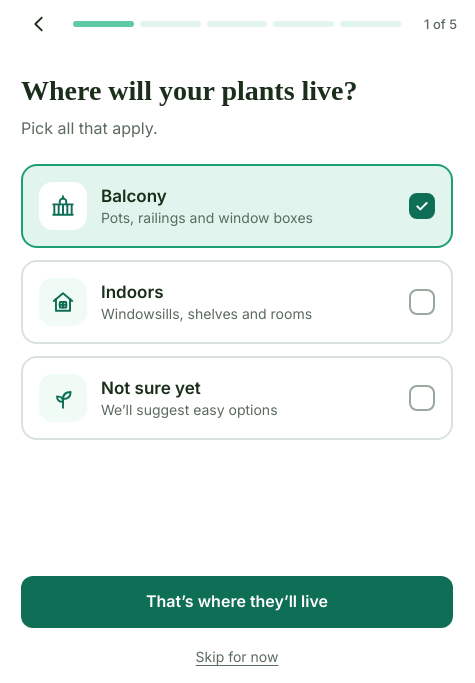
Test: Step 2 — where will your plants live? › saves the answer, tracks it and continues to step 3
The image size is (475, 683).
expect the heading "Where will your plants live?" is shown: met, box [21,75,358,106]
Click the button "Indoors Windowsills, shelves and rooms": (237, 302) [21,260,453,344]
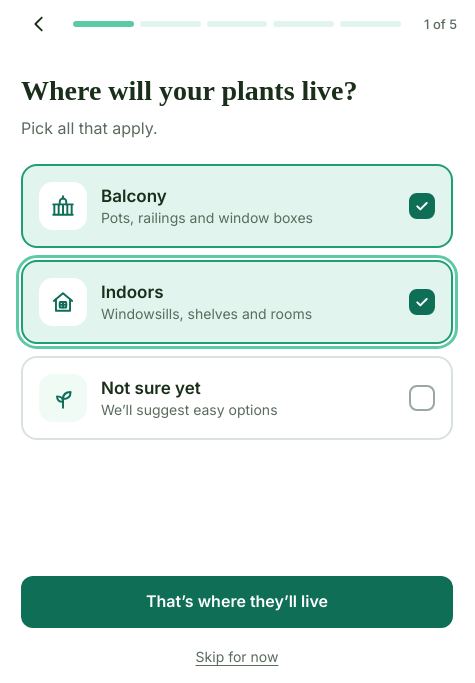
Click the button "That’s where they’ll live": (237, 602) [21,576,453,628]
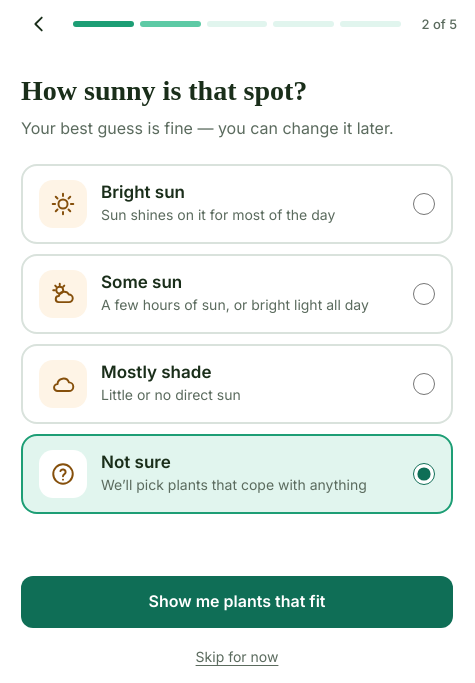
expect the heading "How sunny is that spot?" is shown: met, box [21,75,307,106]
